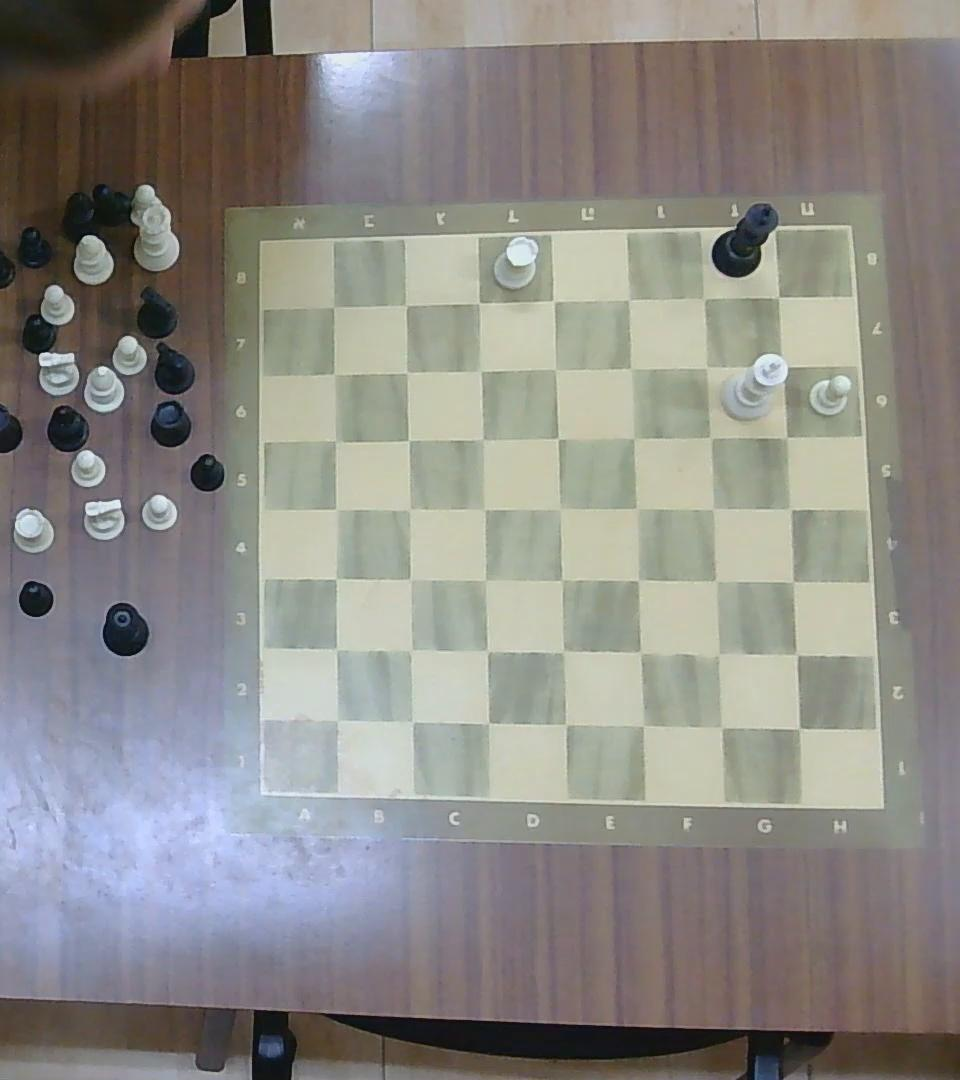xcorner: (702, 637, 734, 671), (471, 705, 502, 739), (548, 707, 579, 740), (626, 707, 657, 740), (547, 635, 578, 667), (781, 638, 812, 670), (699, 564, 730, 596), (705, 710, 735, 743), (464, 285, 494, 318), (775, 492, 806, 523), (625, 635, 655, 667), (471, 635, 501, 667), (783, 711, 813, 743), (395, 704, 425, 736), (538, 284, 568, 316), (622, 564, 652, 596), (465, 353, 495, 385), (547, 564, 577, 596), (541, 351, 571, 383), (321, 702, 351, 734), (698, 492, 728, 523), (391, 288, 421, 319), (776, 565, 807, 595), (616, 352, 646, 383), (621, 492, 651, 523), (619, 421, 649, 452), (768, 349, 799, 379), (317, 290, 347, 320), (470, 563, 499, 594), (395, 634, 424, 665), (545, 492, 574, 523), (470, 494, 499, 524), (321, 563, 350, 593), (321, 634, 350, 664), (615, 283, 644, 313), (543, 423, 572, 453), (393, 424, 423, 453), (771, 422, 801, 451), (395, 563, 423, 594), (394, 493, 423, 522), (392, 356, 421, 385), (697, 422, 726, 451), (692, 351, 721, 380), (467, 423, 495, 453), (691, 282, 719, 311), (765, 282, 793, 311), (321, 426, 349, 454), (320, 359, 349, 386), (324, 493, 350, 522)
